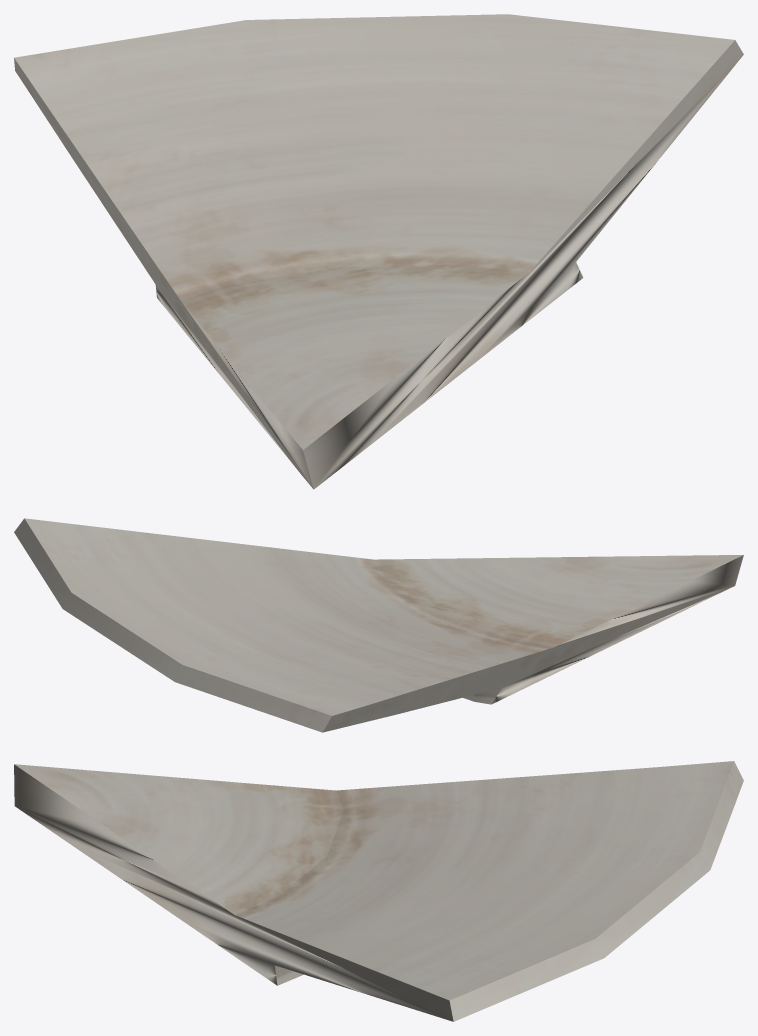
File: PlateRegularShardB.fbx
The picture shows the model from 3 angles, top to bottom: view 1: azimuth 30°, elevation 25°; view 2: azimuth 150°, elevation 25°; view 3: azimuth 270°, elevation 25°; orthographic projection. The views are drawn at different scales.
Visible parts, largest first — view 1: Default_Layer; view 2: Default_Layer; view 3: Default_Layer.
Boxes of the visible parts, x1,y1,x2,y2 form: Default_Layer: (14,14,743,489); Default_Layer: (14,518,743,732); Default_Layer: (14,761,743,1021).
Bounding box in the file's own units: 38.54 × 5.6 × 40.15.
